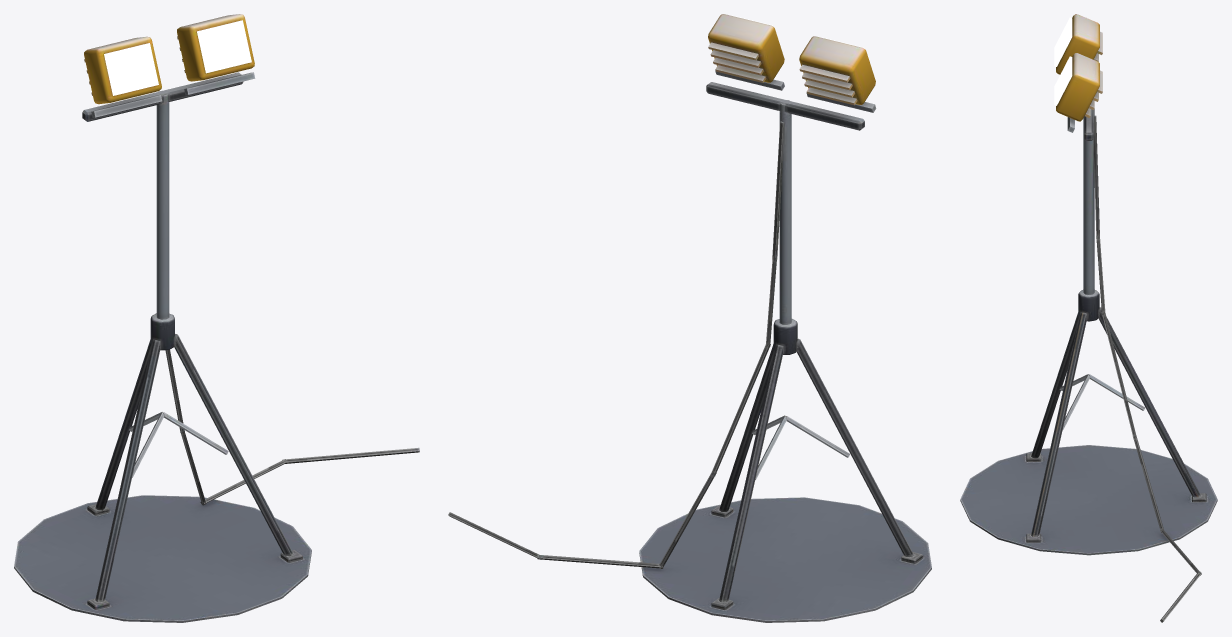
The model's file is floodlight_tripod.glb.
3 views of the same model, side by side, from view 1: azimuth 30°, elevation 25°; view 2: azimuth 150°, elevation 25°; view 3: azimuth 270°, elevation 25° (orthographic). The views are drawn at different scales.
Parts seen in each view (by area): view 1: floodlight_tripod, floodlight_tripod_glow; view 2: floodlight_tripod; view 3: floodlight_tripod, floodlight_tripod_glow.
Part boxes in pixels (<box>): floodlight_tripod: <box>14,14,419,622</box>; floodlight_tripod_glow: <box>104,20,251,95</box>; floodlight_tripod: <box>448,14,931,622</box>; floodlight_tripod: <box>960,14,1217,622</box>; floodlight_tripod_glow: <box>1054,17,1072,105</box>.
Size of the model in its own units: 2.31 by 2.75 by 1.4.
2 materials, 1 textured.
